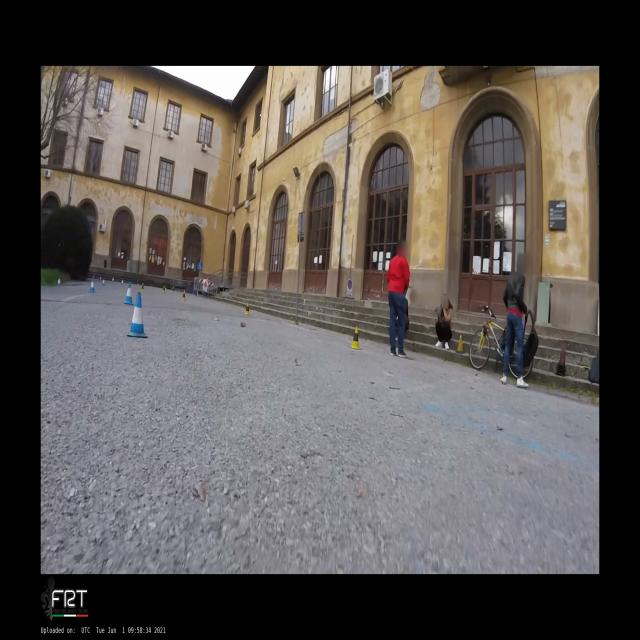blue_cone: (127, 292, 148, 338), (123, 283, 134, 305), (88, 279, 96, 293), (57, 277, 61, 287), (102, 278, 105, 286)
unknown_cone: (455, 334, 465, 354), (557, 346, 566, 367)
yellow_cone: (349, 326, 362, 350), (244, 301, 251, 315), (182, 290, 186, 302), (140, 283, 144, 292), (163, 285, 165, 293)
